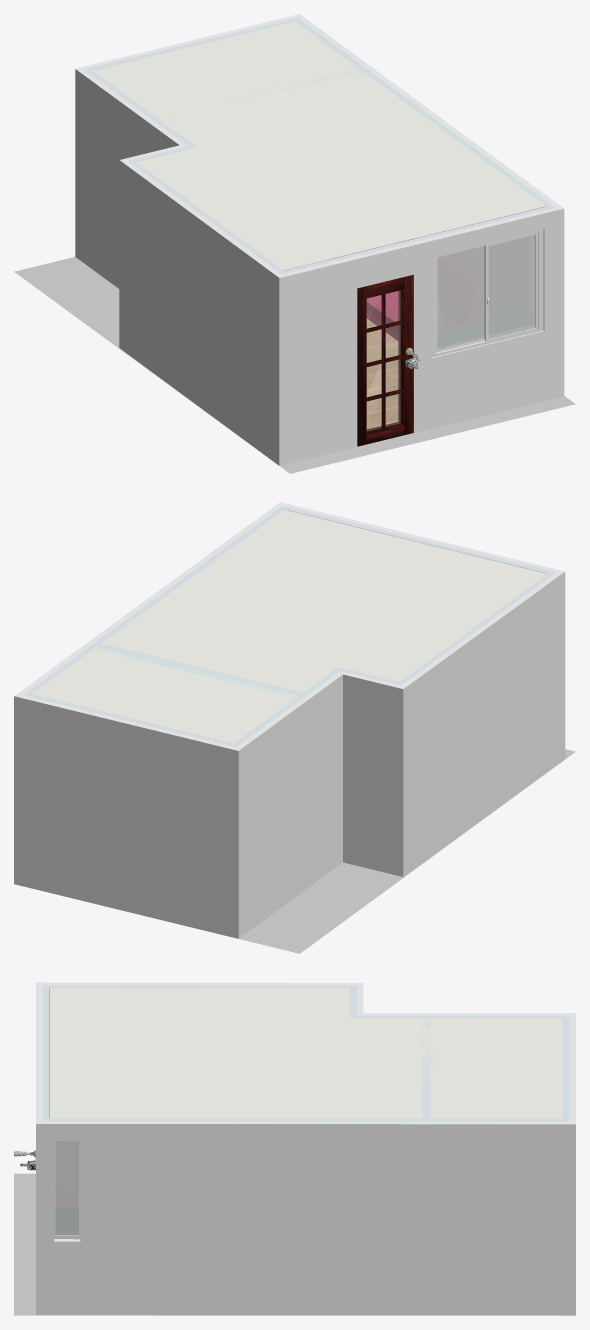
3 views of the same model, one above another, from view 1: azimuth 30°, elevation 25°; view 2: azimuth 150°, elevation 25°; view 3: azimuth 270°, elevation 25° (orthographic).
Parts seen in each view (by area): view 1: plan2, plan2.001; view 2: plan2, plan2.001; view 3: plan2, plan2.001.
Part boxes in pixels (bbox=[...]): plan2: bbox=[14, 14, 575, 473]; plan2.001: bbox=[47, 14, 564, 472]; plan2: bbox=[14, 502, 575, 953]; plan2.001: bbox=[14, 502, 569, 946]; plan2: bbox=[14, 982, 575, 1315]; plan2.001: bbox=[14, 1013, 575, 1235].
Size of the model in its own units: 3.88 by 2.44 by 6.5.
Materials: 73 (16 with a texture image).
